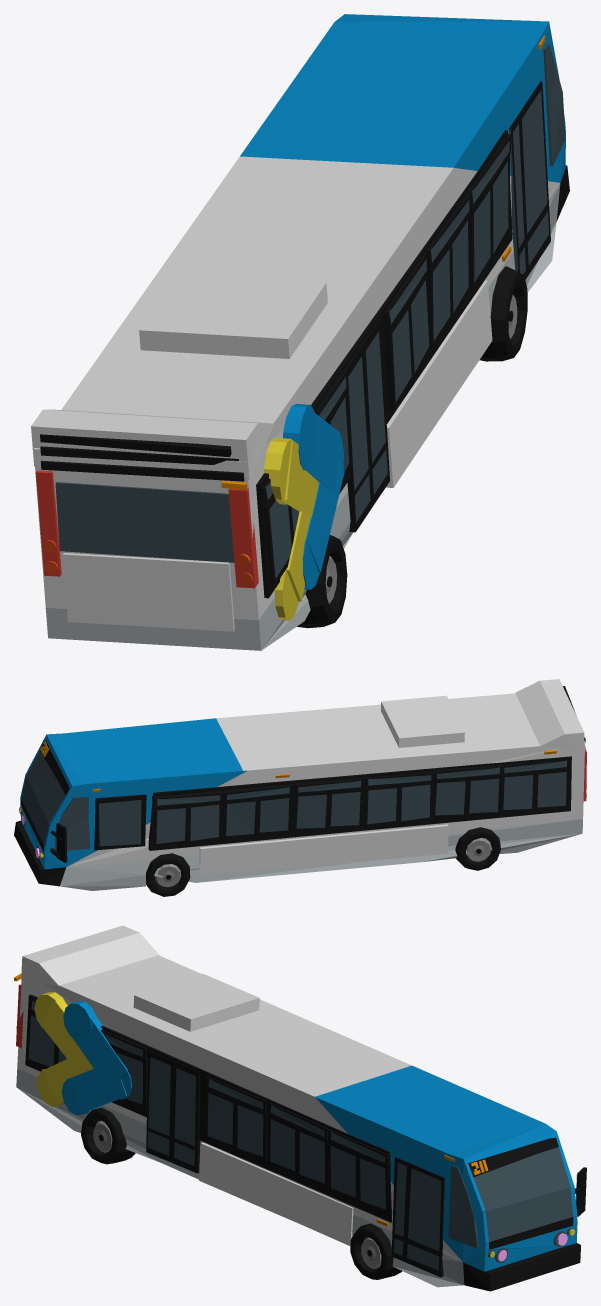
3 views of the same model, one above another, from view 1: azimuth 30°, elevation 25°; view 2: azimuth 150°, elevation 25°; view 3: azimuth 270°, elevation 25° (orthographic). The views are drawn at different scales.
Visible parts, largest first — view 1: node_MeshObject483466880-PolyPaper17; view 2: node_MeshObject483466880-PolyPaper17; view 3: node_MeshObject483466880-PolyPaper17.
Part boxes in pixels (box(x1,y1,x2,y2)): node_MeshObject483466880-PolyPaper17: box(31, 14, 569, 650); node_MeshObject483466880-PolyPaper17: box(14, 679, 586, 896); node_MeshObject483466880-PolyPaper17: box(14, 925, 586, 1291).
Size of the model in its own units: 3.52 by 1.12 by 3.41.
